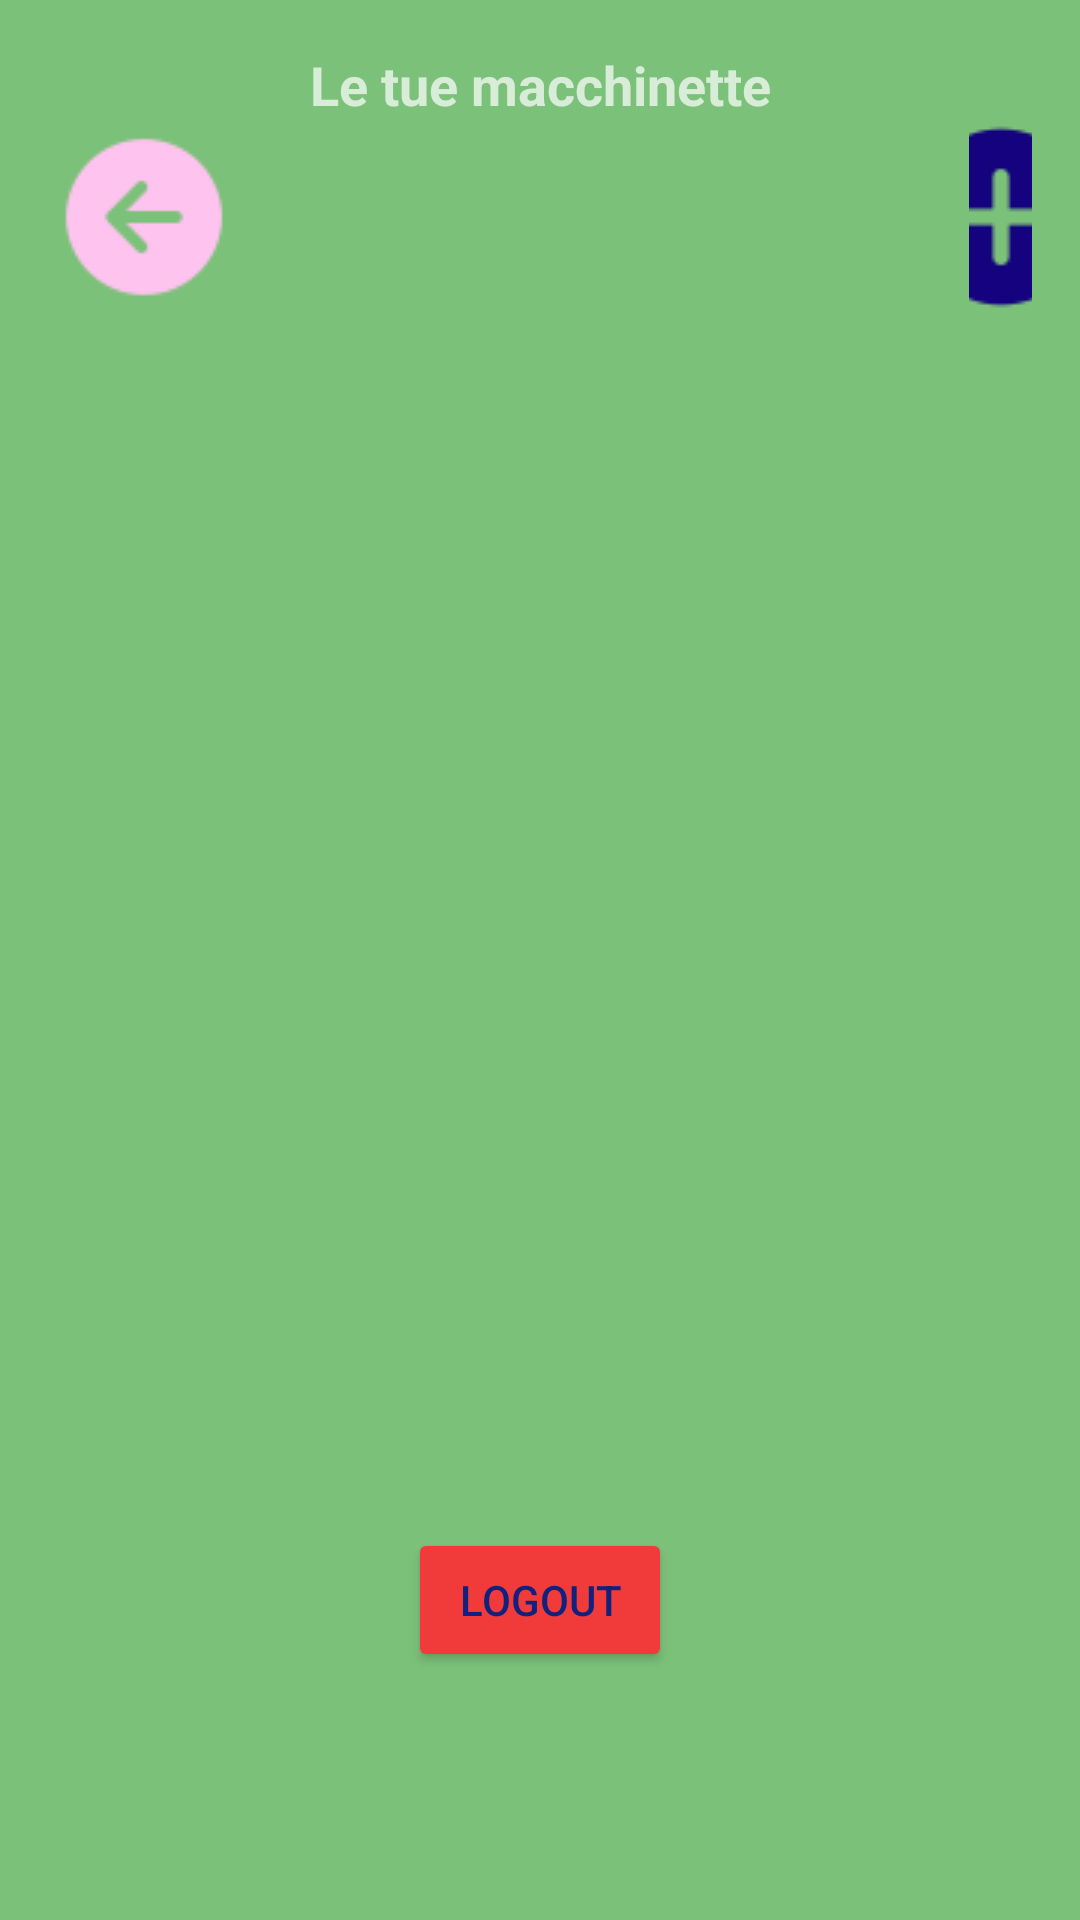

Icons on this 1080x1920 Android screen, each with its box as (x1, y1, x2, y2):
Add Machine: (969, 127, 1032, 307)
Back to previous activity: (65, 138, 223, 296)
